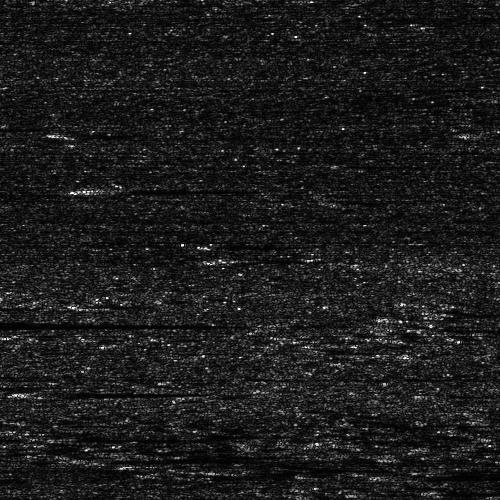rock: (63, 453, 198, 462), (338, 471, 421, 478), (45, 187, 128, 192), (469, 89, 500, 102), (6, 389, 59, 394)
shadow: (131, 453, 381, 462), (0, 318, 187, 327), (380, 471, 500, 478), (0, 121, 73, 132), (87, 187, 213, 192), (33, 389, 154, 394)
